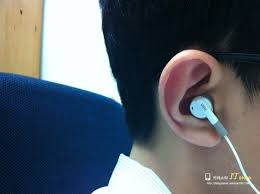earphone: (157, 49, 237, 149)
